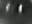person: (6, 4, 12, 15), (18, 4, 23, 17)
